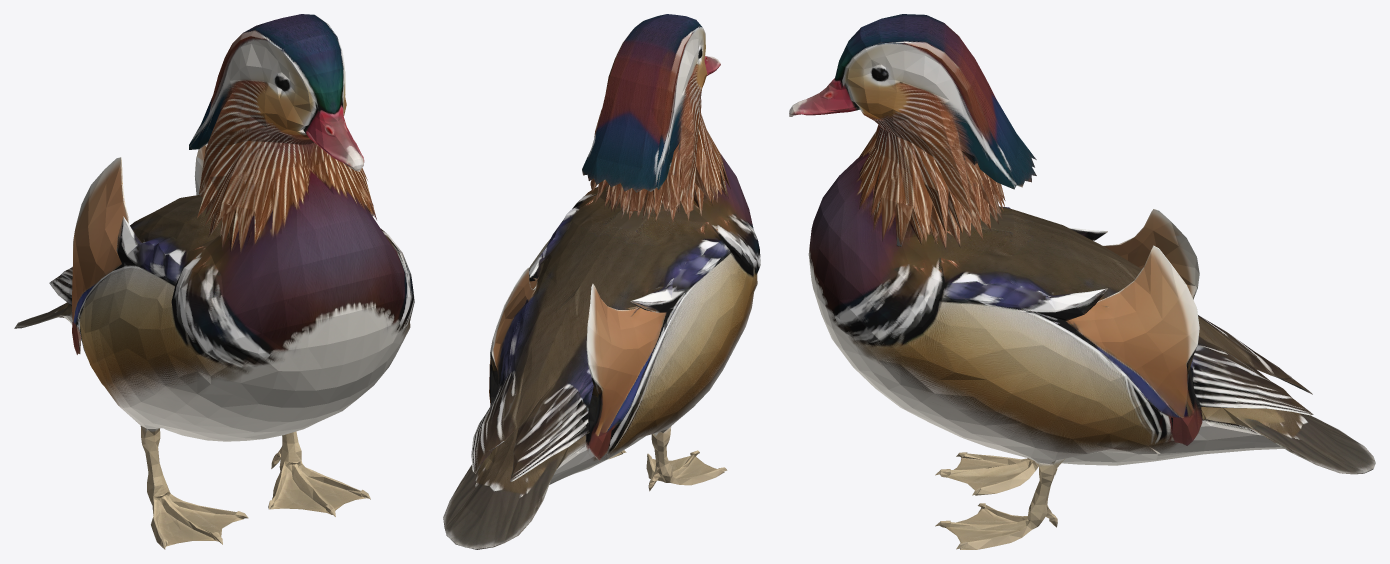
The model's file is aix-galericulata-3d.glb.
The picture shows the model from 3 angles, left to right: view 1: azimuth 30°, elevation 25°; view 2: azimuth 150°, elevation 25°; view 3: azimuth 270°, elevation 25°; orthographic projection. The views are drawn at different scales.
Bounding box in the file's own units: 0.4331 × 0.8647 × 0.9531.
Materials: 1 (1 with a texture image).
